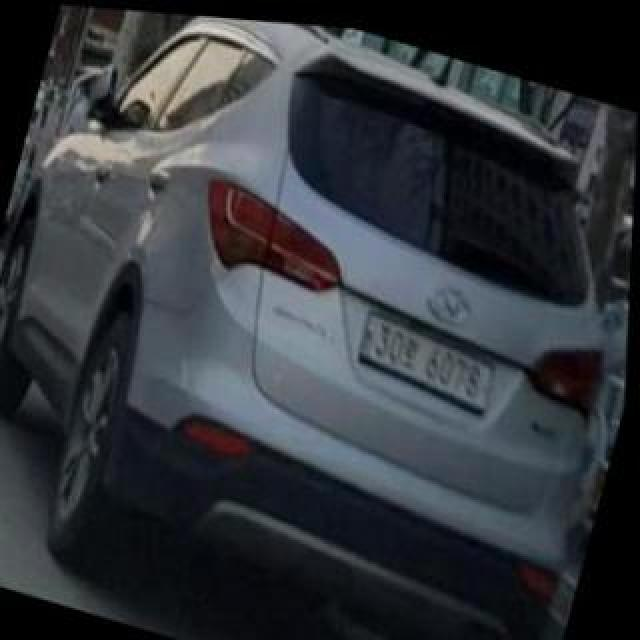car: (0, 7, 640, 640)
illegal_plate: (358, 308, 498, 417)
